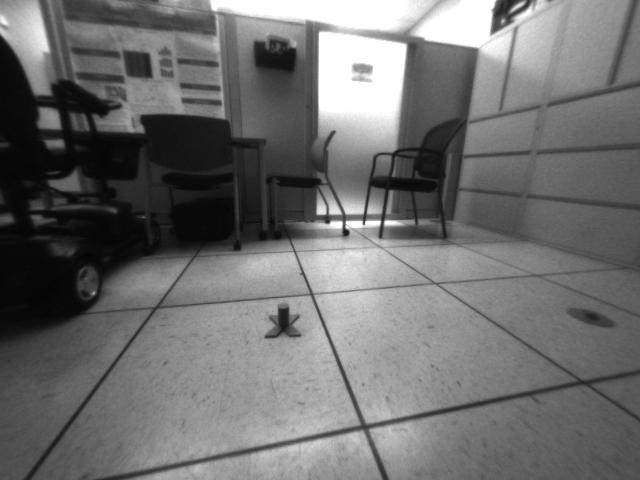X: (265, 300, 301, 337)
